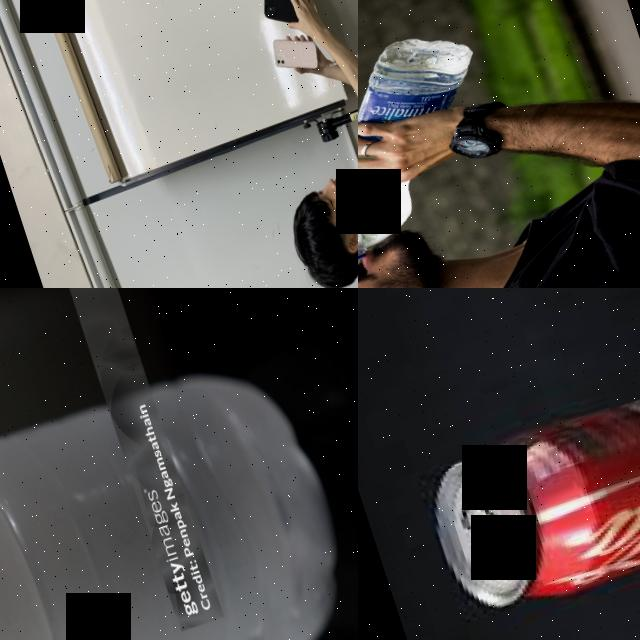bottle: (0, 332, 358, 640), (358, 19, 525, 283)
can: (409, 298, 640, 631)
